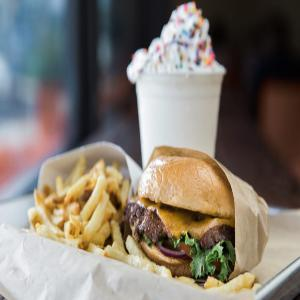cheeseburger_475cal: (134, 150, 240, 295)
fries_350cal: (29, 164, 134, 261)
